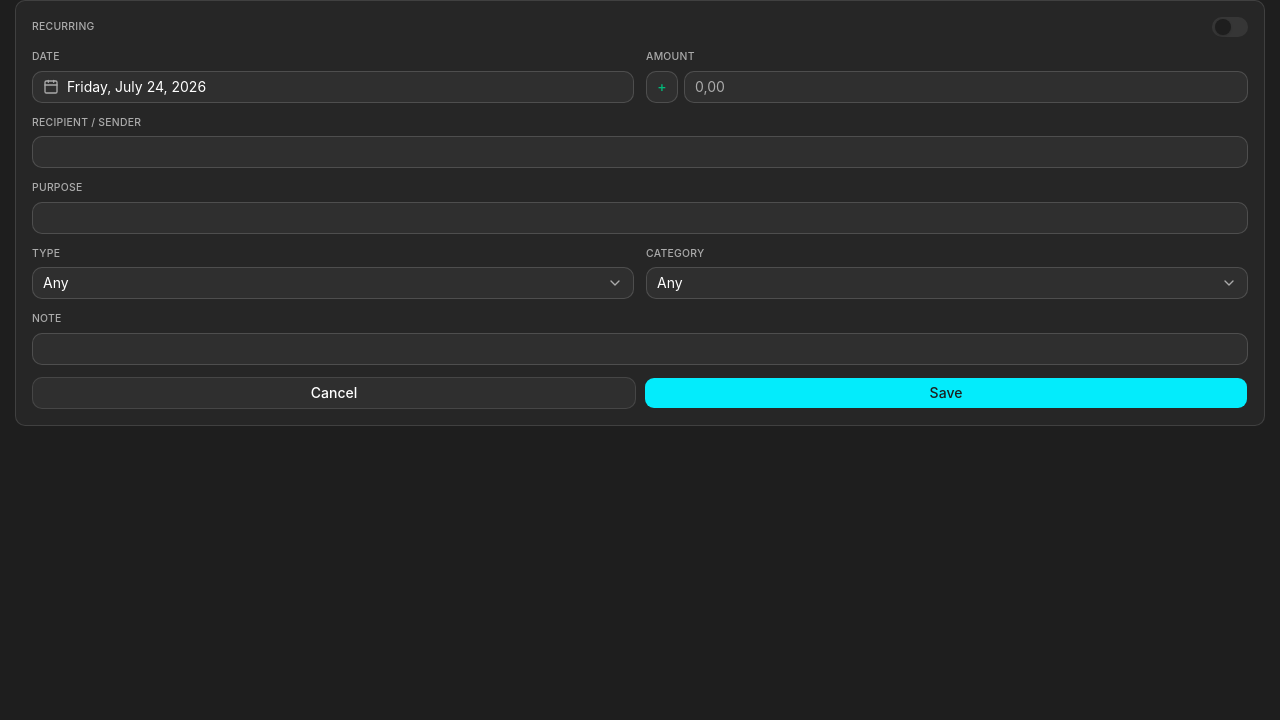
Scenario: ManualTransactionForm — recurring › shows day-of-month options with a leading zero
This screenshot has width=1280, height=720.
What coordinates should you click on to do the following:
click the switch named "Recurring"
I would click on:
 (1230, 27)
Its box is [1212,17,1248,37].
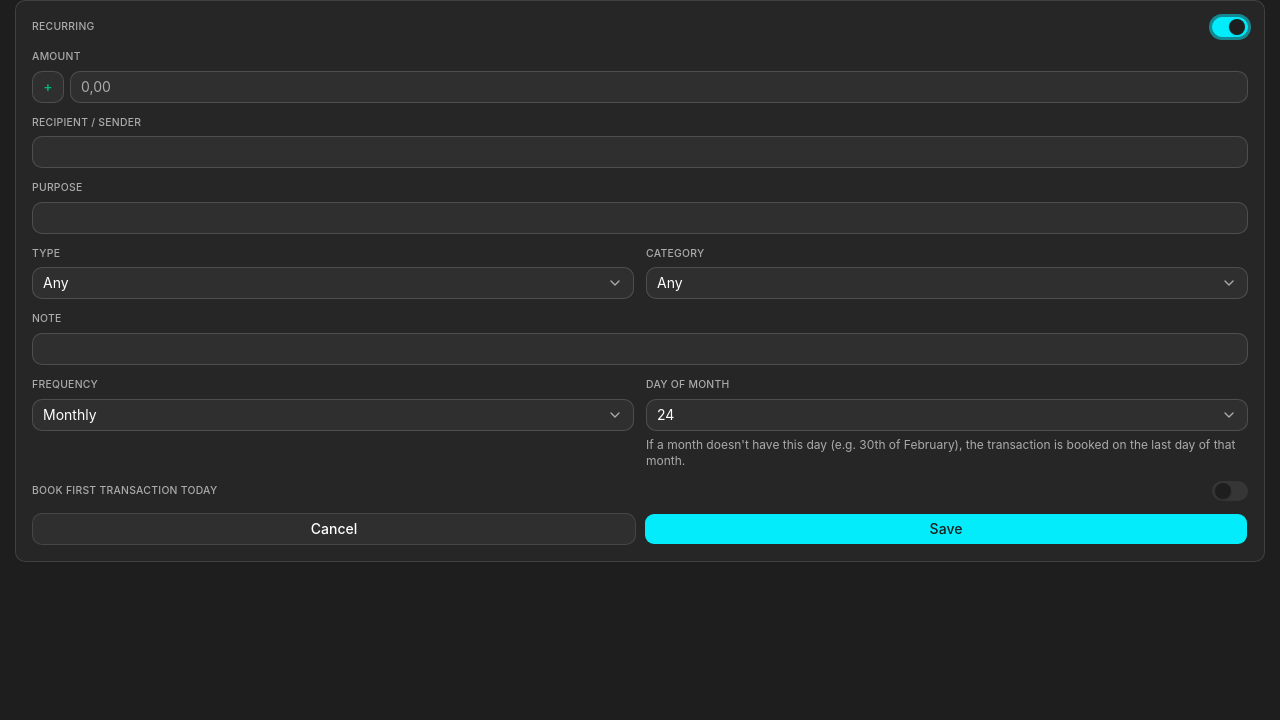
What coordinates should you click on to do the following:
click the button named "Day of month"
I would click on:
 (666, 414)
Its box is [646,399,1248,431].
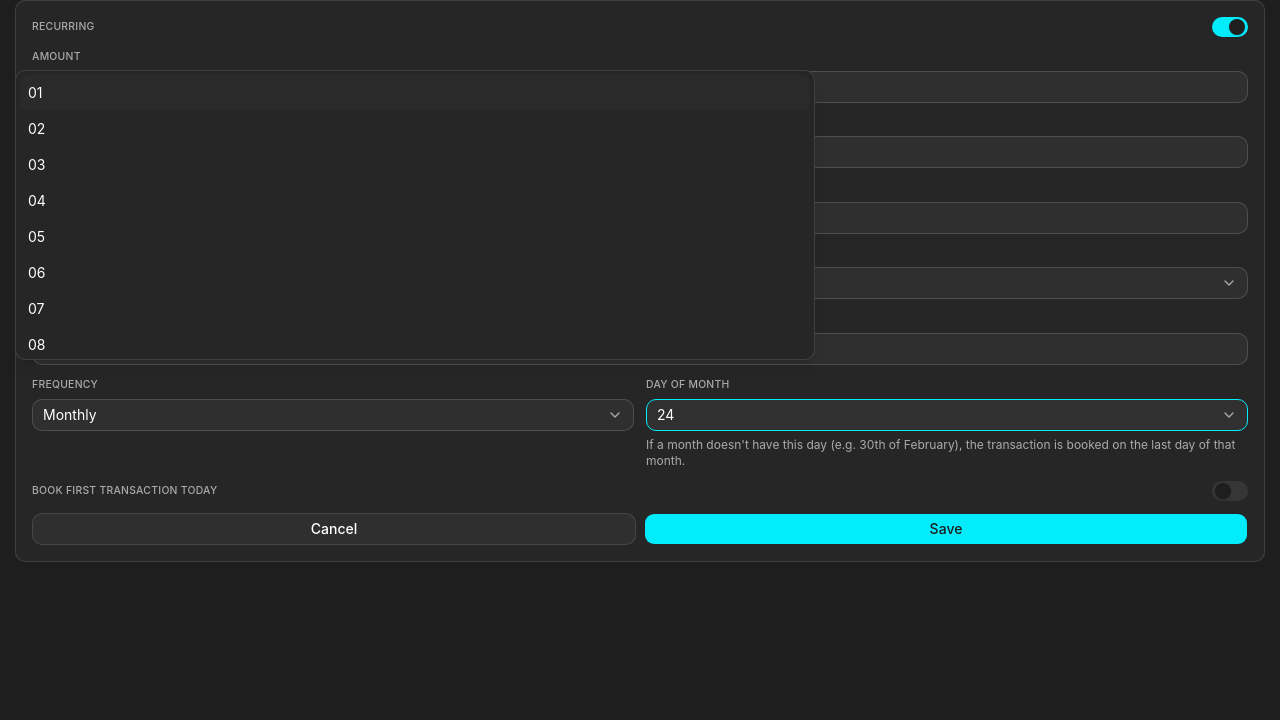
Expected: the button "05" is shown, [20,219,810,255]
